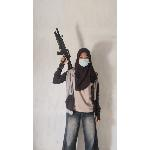Senapan: (50, 25, 76, 73)
